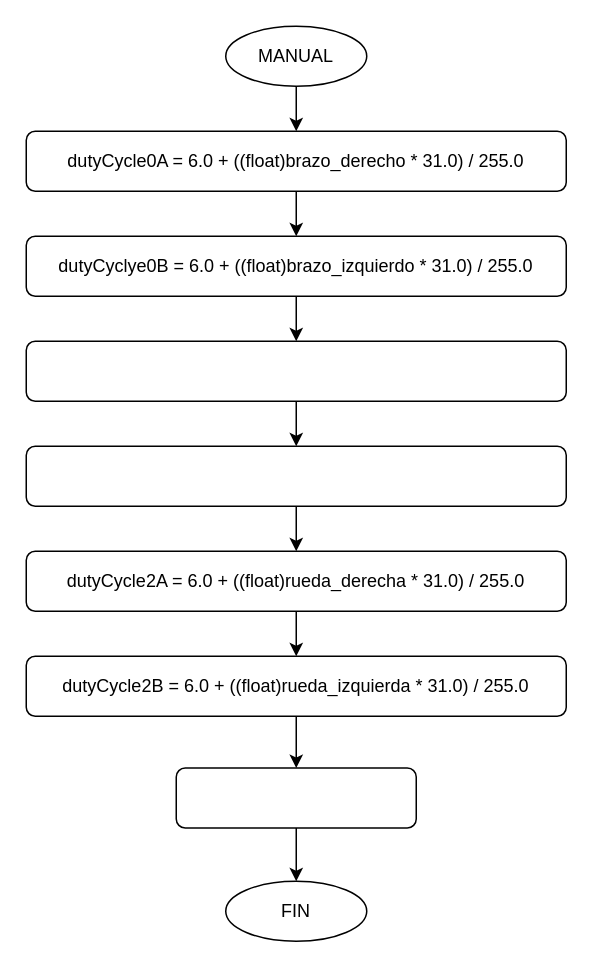
Image size: 593x968. Some labels were removed from this diagram. The centre of each missing label's shape, as x and y in pixels:
"Actualizar DutyCycles" goes at point (295, 797).
"dutyCycle1A = 800.0 + ((float)ojo_derecho * 4000.0) / 255.0" goes at point (295, 370).
"dutyCycle1B = 800.0 + ((float)ojo_izquierdo * 4000.0) / 255.0" goes at point (295, 475).
